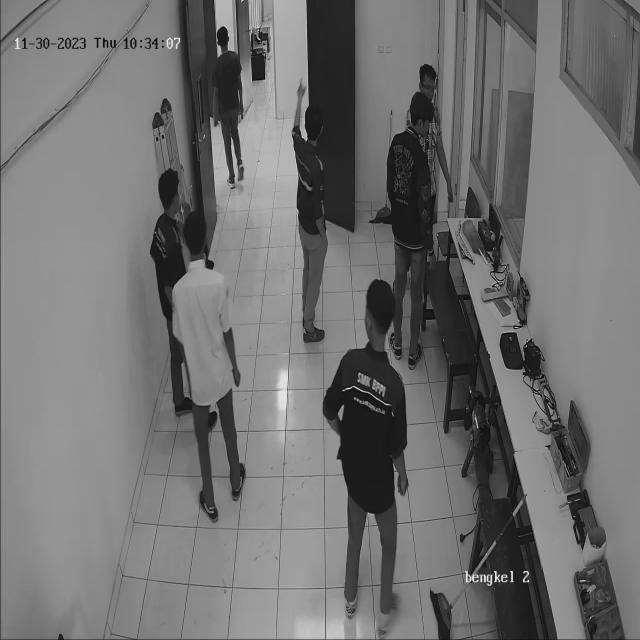person: (326, 250, 405, 630), (166, 196, 250, 518), (291, 80, 330, 364), (396, 90, 431, 362)
